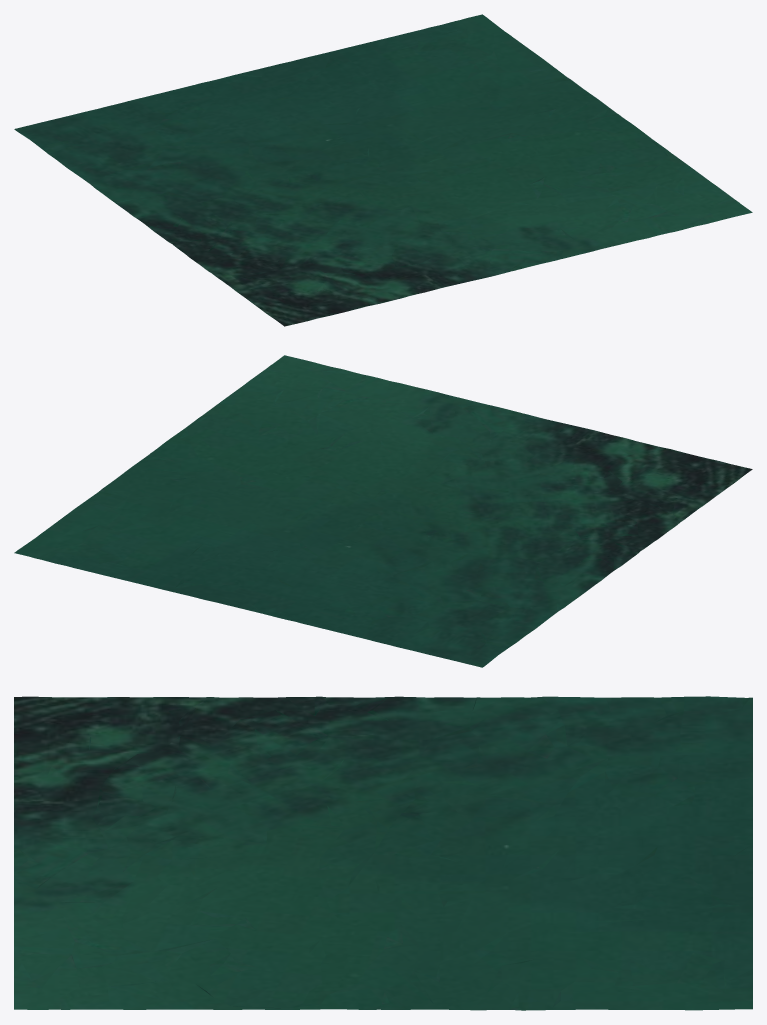
3 renders of one model, top to bottom at view 1: azimuth 30°, elevation 25°; view 2: azimuth 150°, elevation 25°; view 3: azimuth 270°, elevation 25°, orthographic. The views are drawn at different scales.
Size of the model in its own units: 209 by 0.6642 by 209.
Materials: 3 (3 with a texture image).
